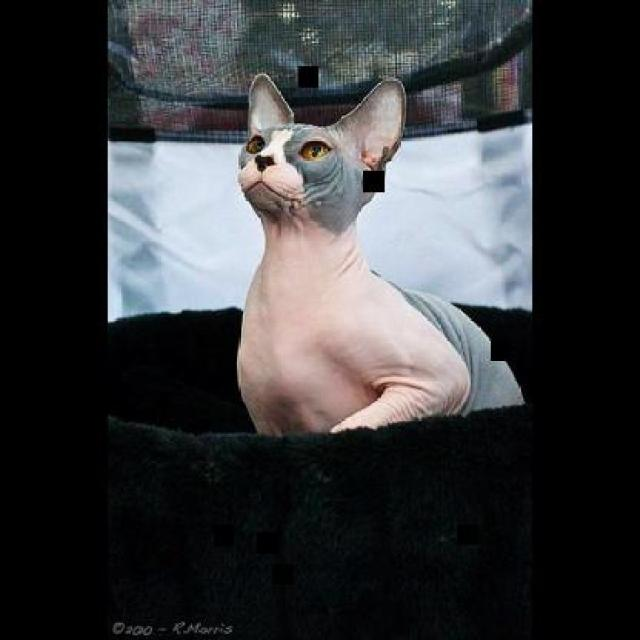unauthorized: (108, 71, 530, 435)
